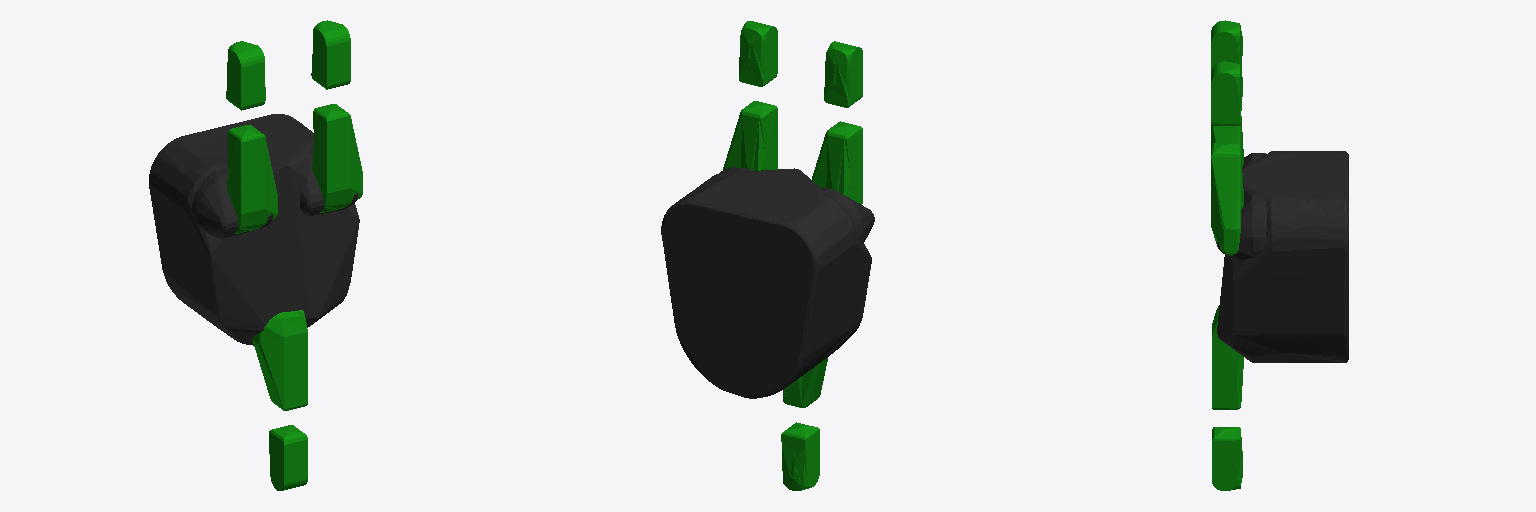
robot.urdf — atlas:
<?xml version="1.0" ?>
<!-- =================================================================================== -->
<!-- |    This document was autogenerated by xacro from xacro/irobot_right_hand_standalone.urdf.xacro | -->
<!-- |    EDITING THIS FILE BY HAND IS NOT RECOMMENDED                                 | -->
<!-- =================================================================================== -->
<robot name="atlas" xmlns:xacro="http://www.ros.org/wiki/xacro">
  <link name="r_hand"/>
  <joint name="right_finger[0]/joint_flex" type="revolute">
    <parent link="right_finger[0]/proximal_link"/>
    <child link="right_finger[0]/distal_link"/>
    <origin xyz="0 0 0.078"/>
    <axis xyz="-1 0 0"/>
    <limit effort="1000.0" lower="0.0" upper="1.57" velocity="0.5"/>
  </joint>
  <joint name="right_finger[1]/joint_flex" type="revolute">
    <parent link="right_finger[1]/proximal_link"/>
    <child link="right_finger[1]/distal_link"/>
    <origin xyz="0 0 0.078"/>
    <axis xyz="-1 0 0"/>
    <limit effort="1000.0" lower="0.0" upper="1.57" velocity="0.5"/>
  </joint>
  <joint name="right_finger[2]/joint_flex" type="revolute">
    <parent link="right_finger[2]/proximal_link"/>
    <child link="right_finger[2]/distal_link"/>
    <origin xyz="0 0 0.078"/>
    <axis xyz="-1 0 0"/>
    <limit effort="1000.0" lower="0.0" upper="1.57" velocity="0.5"/>
  </joint>
  <joint name="right_irobot_hand_joint" type="fixed">
    <origin rpy="1.57079 0 0" xyz="0 -0.11516 -0.015"/>
    <parent link="r_hand"/>
    <child link="right_base_link"/>
  </joint>
  <link name="right_base_link">
    <inertial>
      <mass value="0.1"/>
      <origin xyz="0 0 0"/>
      <inertia ixx="0.001" ixy="0.0" ixz="0.0" iyy="0.001" iyz="0.0" izz="0.001"/>
    </inertial>
    <collision>
      <geometry>
        <mesh filename="package://handle_description/meshes/palm.stl"/>
      </geometry>
      <origin rpy="0 0 0" xyz="0 -0.038 -0.023"/>
    </collision>
    <visual>
      <geometry>
        <mesh filename="package://handle_description/meshes/palm.stl"/>
      </geometry>
      <material name="darkgray">
        <color rgba="0.2 0.2 0.2 1"/>
      </material>
      <origin rpy="0 0 0" xyz="0 -0.038 -0.023"/>
    </visual>
  </link>
  <link name="right_finger[0]/base_rotation_link">
    <inertial>
      <mass value="0.1"/>
      <origin xyz="0 0 0"/>
      <inertia ixx="0.001" ixy="0.0" ixz="0.0" iyy="0.001" iyz="0.0" izz="0.001"/>
    </inertial>
    <collision>
      <geometry>
        <mesh filename="package://handle_description/meshes/finger_base.stl"/>
      </geometry>
      <origin rpy="1.57 0 0" xyz="0 0 0"/>
    </collision>
    <visual>
      <geometry>
        <mesh filename="package://handle_description/meshes/finger_base.stl"/>
      </geometry>
      <material name="darkgray">
        <color rgba="0.2 0.2 0.2 1"/>
      </material>
      <origin rpy="1.57 0 0" xyz="0 0 0"/>
    </visual>
  </link>
  <link name="right_finger[0]/proximal_link">
    <inertial>
      <mass value="0.1"/>
      <origin xyz="0 0 0"/>
      <inertia ixx="0.001" ixy="0.0" ixz="0.0" iyy="0.001" iyz="0.0" izz="0.001"/>
    </inertial>
    <collision>
      <geometry>
        <mesh filename="package://handle_description/meshes/finger_proximal.stl"/>
      </geometry>
      <origin rpy="1.57 -1.57 0" xyz="0 0 0"/>
    </collision>
    <visual>
      <geometry>
        <mesh filename="package://handle_description/meshes/finger_proximal.stl"/>
      </geometry>
      <material name="green">
        <color rgba="0.1 0.6 0.1 1"/>
      </material>
      <origin rpy="1.57 -1.57 0" xyz="0 0 0"/>
    </visual>
  </link>
  <link name="right_finger[0]/distal_link">
    <inertial>
      <mass value="0.1"/>
      <origin xyz="0 0 0"/>
      <inertia ixx="0.001" ixy="0.0" ixz="0.0" iyy="0.001" iyz="0.0" izz="0.001"/>
    </inertial>
    <collision>
      <geometry>
        <mesh filename="package://handle_description/meshes/finger_distal.stl"/>
      </geometry>
      <origin rpy="0 3.14 0" xyz="0 0 0"/>
    </collision>
    <visual>
      <geometry>
        <mesh filename="package://handle_description/meshes/finger_distal.stl"/>
      </geometry>
      <material name="green">
        <color rgba="0.1 0.6 0.1 1"/>
      </material>
      <origin rpy="0 3.14 0" xyz="0 0 0"/>
    </visual>
  </link>
  <link name="right_finger[1]/base_rotation_link">
    <inertial>
      <mass value="0.1"/>
      <origin xyz="0 0 0"/>
      <inertia ixx="0.001" ixy="0.0" ixz="0.0" iyy="0.001" iyz="0.0" izz="0.001"/>
    </inertial>
    <collision>
      <geometry>
        <mesh filename="package://handle_description/meshes/finger_base.stl"/>
      </geometry>
      <origin rpy="1.57 0 0" xyz="0 0 0"/>
    </collision>
    <visual>
      <geometry>
        <mesh filename="package://handle_description/meshes/finger_base.stl"/>
      </geometry>
      <material name="darkgray">
        <color rgba="0.2 0.2 0.2 1"/>
      </material>
      <origin rpy="1.57 0 0" xyz="0 0 0"/>
    </visual>
  </link>
  <link name="right_finger[1]/proximal_link">
    <inertial>
      <mass value="0.1"/>
      <origin xyz="0 0 0"/>
      <inertia ixx="0.001" ixy="0.0" ixz="0.0" iyy="0.001" iyz="0.0" izz="0.001"/>
    </inertial>
    <collision>
      <geometry>
        <mesh filename="package://handle_description/meshes/finger_proximal.stl"/>
      </geometry>
      <origin rpy="1.57 -1.57 0" xyz="0 0 0"/>
    </collision>
    <visual>
      <geometry>
        <mesh filename="package://handle_description/meshes/finger_proximal.stl"/>
      </geometry>
      <material name="green">
        <color rgba="0.1 0.6 0.1 1"/>
      </material>
      <origin rpy="1.57 -1.57 0" xyz="0 0 0"/>
    </visual>
  </link>
  <link name="right_finger[1]/distal_link">
    <inertial>
      <mass value="0.1"/>
      <origin xyz="0 0 0"/>
      <inertia ixx="0.001" ixy="0.0" ixz="0.0" iyy="0.001" iyz="0.0" izz="0.001"/>
    </inertial>
    <collision>
      <geometry>
        <mesh filename="package://handle_description/meshes/finger_distal.stl"/>
      </geometry>
      <origin rpy="0 3.14 0" xyz="0 0 0"/>
    </collision>
    <visual>
      <geometry>
        <mesh filename="package://handle_description/meshes/finger_distal.stl"/>
      </geometry>
      <material name="green">
        <color rgba="0.1 0.6 0.1 1"/>
      </material>
      <origin rpy="0 3.14 0" xyz="0 0 0"/>
    </visual>
  </link>
  <link name="right_finger[2]/proximal_link">
    <inertial>
      <mass value="0.1"/>
      <origin xyz="0 0 0"/>
      <inertia ixx="0.001" ixy="0.0" ixz="0.0" iyy="0.001" iyz="0.0" izz="0.001"/>
    </inertial>
    <collision>
      <geometry>
        <mesh filename="package://handle_description/meshes/finger_proximal.stl"/>
      </geometry>
      <origin rpy="1.57 -1.57 0" xyz="0 0 0"/>
    </collision>
    <visual>
      <geometry>
        <mesh filename="package://handle_description/meshes/finger_proximal.stl"/>
      </geometry>
      <material name="green">
        <color rgba="0.1 0.6 0.1 1"/>
      </material>
      <origin rpy="1.57 -1.57 0" xyz="0 0 0"/>
    </visual>
  </link>
  <link name="right_finger[2]/distal_link">
    <inertial>
      <mass value="0.1"/>
      <origin xyz="0 0 0"/>
      <inertia ixx="0.001" ixy="0.0" ixz="0.0" iyy="0.001" iyz="0.0" izz="0.001"/>
    </inertial>
    <collision>
      <geometry>
        <mesh filename="package://handle_description/meshes/finger_distal.stl"/>
      </geometry>
      <origin rpy="0 3.14 0" xyz="0 0 0"/>
    </collision>
    <visual>
      <geometry>
        <mesh filename="package://handle_description/meshes/finger_distal.stl"/>
      </geometry>
      <material name="green">
        <color rgba="0.1 0.6 0.1 1"/>
      </material>
      <origin rpy="0 3.14 0" xyz="0 0 0"/>
    </visual>
  </link>
  <joint name="right_finger[0]/joint_base_rotation" type="revolute">
    <parent link="right_base_link"/>
    <child link="right_finger[0]/base_rotation_link"/>
    <origin rpy="0 0 0" xyz="0.03075 0.038 0.069477"/>
    <axis xyz="0 0 -1"/>
    <limit effort="1000.0" lower="0.0" upper="1.57" velocity="0.5"/>
  </joint>
  <joint name="right_finger[0]/joint_base" type="revolute">
    <parent link="right_finger[0]/base_rotation_link"/>
    <child link="right_finger[0]/proximal_link"/>
    <origin rpy="1.57 0 -3.14" xyz="0 0 0.0135"/>
    <axis xyz="-1 0 0"/>
    <limit effort="1000.0" lower="0.0" upper="1.57" velocity="0.5"/>
  </joint>
  <joint name="right_finger[1]/joint_base_rotation" type="revolute">
    <parent link="right_base_link"/>
    <child link="right_finger[1]/base_rotation_link"/>
    <origin rpy="0 0 0" xyz="-0.03075 0.038 0.069477"/>
    <axis xyz="0 0 1"/>
    <limit effort="1000.0" lower="0.0" upper="1.57" velocity="0.5"/>
  </joint>
  <joint name="right_finger[1]/joint_base" type="revolute">
    <parent link="right_finger[1]/base_rotation_link"/>
    <child link="right_finger[1]/proximal_link"/>
    <origin rpy="1.57 0 -3.14" xyz="0 0 0.0135"/>
    <axis xyz="-1 0 0"/>
    <limit effort="1000.0" lower="0.0" upper="1.57" velocity="0.5"/>
  </joint>
  <joint name="right_finger[2]/joint_base" type="revolute">
    <parent link="right_base_link"/>
    <child link="right_finger[2]/proximal_link"/>
    <origin rpy="1.57 0 0" xyz="0 -0.038 0.082755"/>
    <axis xyz="-1 0 0"/>
    <limit effort="1000.0" lower="0.0" upper="1.57" velocity="0.5"/>
  </joint>
</robot>

--- What the picture shows (computed from the rendered views, not written in the file) ---
Views: 3 orthographic renders of the robot side by side, from view 1: azimuth 30°, elevation 25°; view 2: azimuth 150°, elevation 25°; view 3: azimuth 270°, elevation 25°.
Model atlas with 10 links and 9 joints (8 revolute, 1 fixed), rooted at r_hand, posed all joints at 0.
Links seen in each view (by area): view 1: right_base_link, right_finger[2]/proximal_link, right_finger[1]/proximal_link, right_finger[0]/proximal_link, right_finger[0]/distal_link, right_finger[1]/distal_link, right_finger[1]/base_rotation_link, right_finger[2]/distal_link, right_finger[0]/base_rotation_link; view 2: right_base_link, right_finger[1]/proximal_link, right_finger[0]/proximal_link, right_finger[2]/distal_link, right_finger[0]/distal_link, right_finger[1]/distal_link, right_finger[2]/proximal_link, right_finger[1]/base_rotation_link; view 3: right_base_link, right_finger[0]/proximal_link, right_finger[2]/proximal_link, right_finger[0]/distal_link, right_finger[2]/distal_link, right_finger[0]/base_rotation_link, right_finger[1]/distal_link, right_finger[1]/proximal_link.
Link boxes in pixels (<box>): right_base_link: <box>149,114,359,345</box>; right_finger[2]/proximal_link: <box>252,310,307,410</box>; right_finger[1]/proximal_link: <box>227,125,277,233</box>; right_finger[0]/proximal_link: <box>312,104,362,212</box>; right_finger[0]/distal_link: <box>311,20,350,89</box>; right_finger[1]/distal_link: <box>226,41,265,110</box>; right_finger[1]/base_rotation_link: <box>192,168,272,238</box>; right_finger[2]/distal_link: <box>269,425,307,490</box>; right_finger[0]/base_rotation_link: <box>300,146,357,215</box>; right_base_link: <box>661,168,871,398</box>; right_finger[1]/proximal_link: <box>812,121,862,204</box>; right_finger[0]/proximal_link: <box>723,101,777,170</box>; right_finger[2]/distal_link: <box>781,422,819,490</box>; right_finger[0]/distal_link: <box>739,21,777,86</box>; right_finger[1]/distal_link: <box>824,41,862,107</box>; right_finger[2]/proximal_link: <box>783,357,827,407</box>; right_finger[1]/base_rotation_link: <box>821,188,874,242</box>; right_base_link: <box>1217,151,1348,362</box>; right_finger[0]/proximal_link: <box>1211,143,1243,255</box>; right_finger[2]/proximal_link: <box>1212,305,1243,409</box>; right_finger[0]/distal_link: <box>1211,61,1242,125</box>; right_finger[2]/distal_link: <box>1212,427,1242,490</box>; right_finger[0]/base_rotation_link: <box>1217,194,1266,260</box>; right_finger[1]/distal_link: <box>1211,20,1242,70</box>; right_finger[1]/proximal_link: <box>1211,116,1243,166</box>.
Size in the robot's own frame: 0.1134 by 0.0878 by 0.311 metres.
Meshes: 4 distinct files referenced, 9 mesh visuals loaded (4 binary STL).
